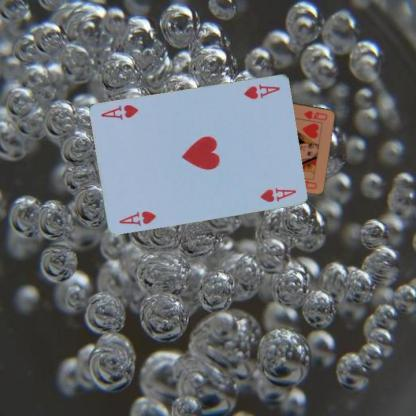Ah: (241, 81, 281, 100), (117, 208, 157, 227)
Qh: (301, 108, 329, 121)
